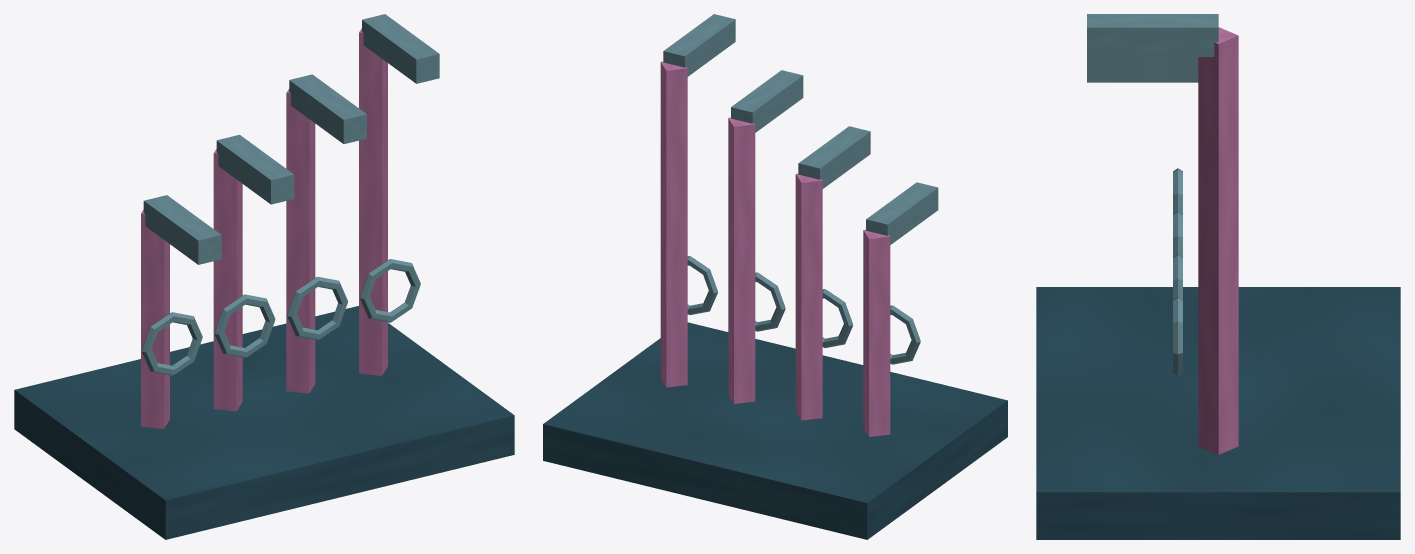
The model's file is atlas100-s064-a03.lod2.glb.
The picture shows the model from 3 angles, left to right: view 1: azimuth 30°, elevation 25°; view 2: azimuth 150°, elevation 25°; view 3: azimuth 270°, elevation 25°; orthographic projection. The views are drawn at different scales.
Visible parts, largest first — view 1: atlas100-s064-a03:part-000, atlas100-s064-a03:part-012, atlas100-s064-a03:part-009, atlas100-s064-a03:part-006, atlas100-s064-a03:part-003, atlas100-s064-a03:part-005, atlas100-s064-a03:part-008, atlas100-s064-a03:part-014, atlas100-s064-a03:part-011, atlas100-s064-a03:part-010, atlas100-s064-a03:part-007, atlas100-s064-a03:part-004 (+1 smaller); view 2: atlas100-s064-a03:part-000, atlas100-s064-a03:part-012, atlas100-s064-a03:part-009, atlas100-s064-a03:part-006, atlas100-s064-a03:part-003, atlas100-s064-a03:part-005, atlas100-s064-a03:part-011, atlas100-s064-a03:part-014, atlas100-s064-a03:part-008, atlas100-s064-a03:part-007, atlas100-s064-a03:part-013, atlas100-s064-a03:part-004 (+1 smaller); view 3: atlas100-s064-a03:part-000, atlas100-s064-a03:part-012, atlas100-s064-a03:part-014, atlas100-s064-a03:part-008, atlas100-s064-a03:part-005, atlas100-s064-a03:part-011, atlas100-s064-a03:part-013, atlas100-s064-a03:part-004.
Boxes of the visible parts, box(x1,y1,x2,y2) form: atlas100-s064-a03:part-000: box(14, 306, 514, 539); atlas100-s064-a03:part-012: box(359, 28, 387, 375); atlas100-s064-a03:part-009: box(286, 88, 315, 393); atlas100-s064-a03:part-006: box(213, 149, 242, 411); atlas100-s064-a03:part-003: box(141, 210, 169, 429); atlas100-s064-a03:part-005: box(143, 195, 221, 264); atlas100-s064-a03:part-008: box(216, 134, 294, 204); atlas100-s064-a03:part-014: box(362, 14, 439, 83); atlas100-s064-a03:part-011: box(289, 74, 366, 143); atlas100-s064-a03:part-010: box(287, 276, 347, 340); atlas100-s064-a03:part-007: box(214, 294, 275, 358); atlas100-s064-a03:part-004: box(141, 312, 202, 375); atlas100-s064-a03:part-000: box(543, 322, 1007, 539); atlas100-s064-a03:part-012: box(660, 61, 687, 387); atlas100-s064-a03:part-009: box(728, 117, 755, 403); atlas100-s064-a03:part-006: box(795, 173, 822, 420); atlas100-s064-a03:part-003: box(863, 229, 890, 436); atlas100-s064-a03:part-005: box(866, 182, 938, 244); atlas100-s064-a03:part-011: box(731, 70, 803, 132); atlas100-s064-a03:part-014: box(663, 14, 735, 76); atlas100-s064-a03:part-008: box(798, 126, 870, 188); atlas100-s064-a03:part-007: box(822, 289, 853, 347); atlas100-s064-a03:part-013: box(687, 256, 717, 314); atlas100-s064-a03:part-004: box(890, 305, 920, 364); atlas100-s064-a03:part-000: box(1036, 287, 1400, 539); atlas100-s064-a03:part-012: box(1198, 27, 1238, 454); atlas100-s064-a03:part-014: box(1087, 14, 1218, 56); atlas100-s064-a03:part-008: box(1087, 65, 1198, 74); atlas100-s064-a03:part-005: box(1087, 74, 1198, 82); atlas100-s064-a03:part-011: box(1087, 57, 1198, 65); atlas100-s064-a03:part-013: box(1173, 296, 1182, 375); atlas100-s064-a03:part-004: box(1173, 168, 1182, 213).
Size of the model in its own units: 2.4 by 2.62 by 1.8.
Materials: 3 (3 with a texture image).
